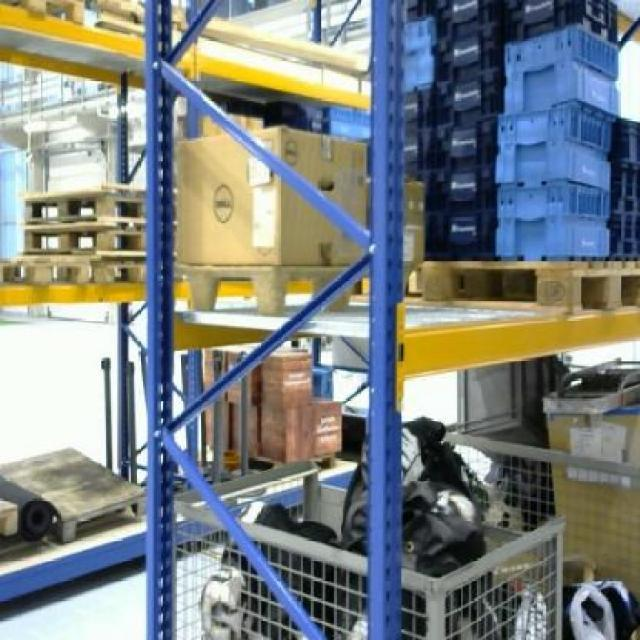box: (176, 126, 369, 268), (257, 352, 314, 410), (256, 409, 315, 460), (316, 400, 341, 460)
